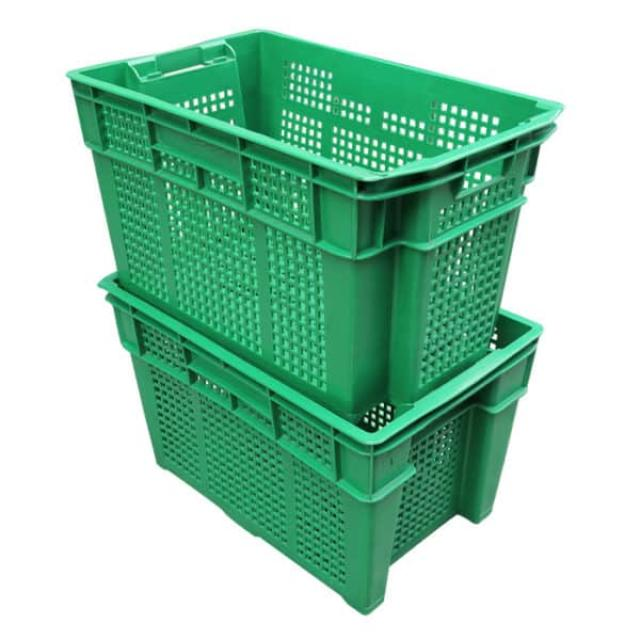basket: (72, 274, 543, 629)
